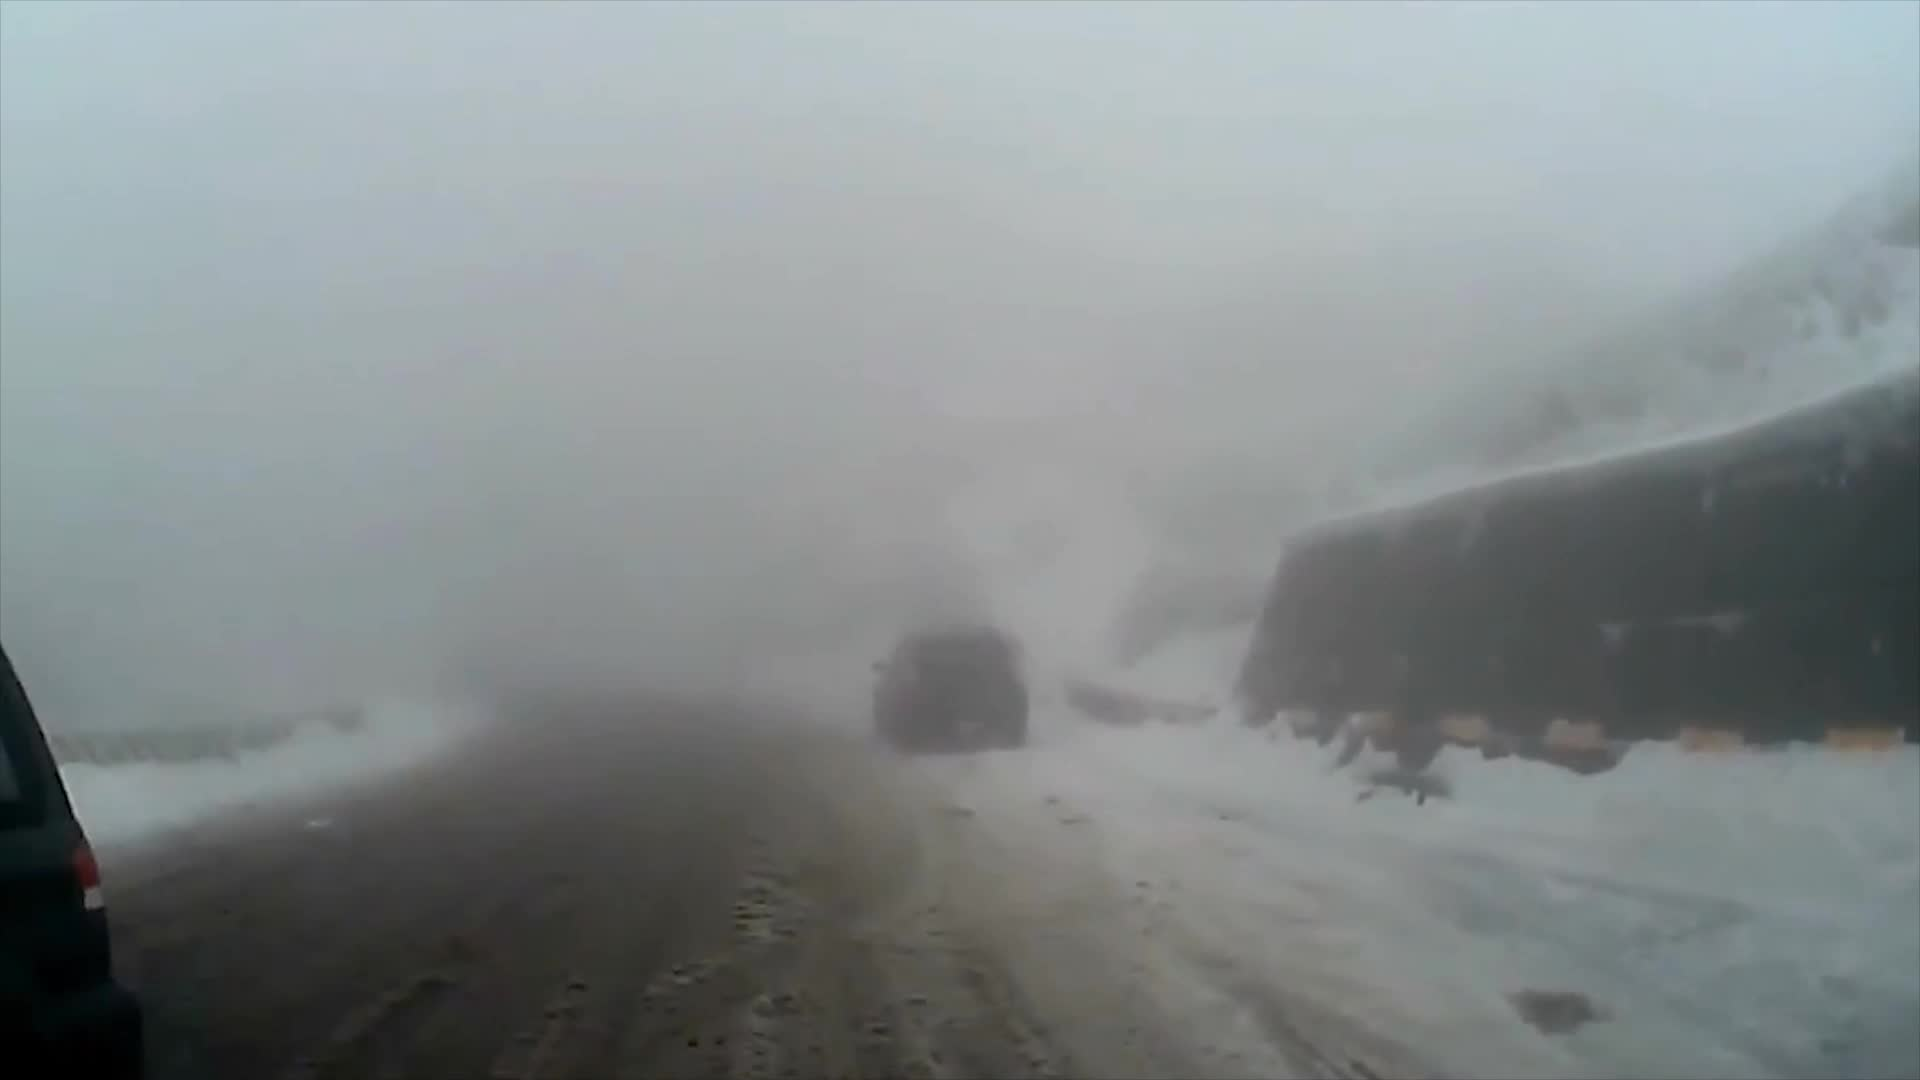vehicle: (0, 642, 141, 1076), (866, 618, 1025, 754)
